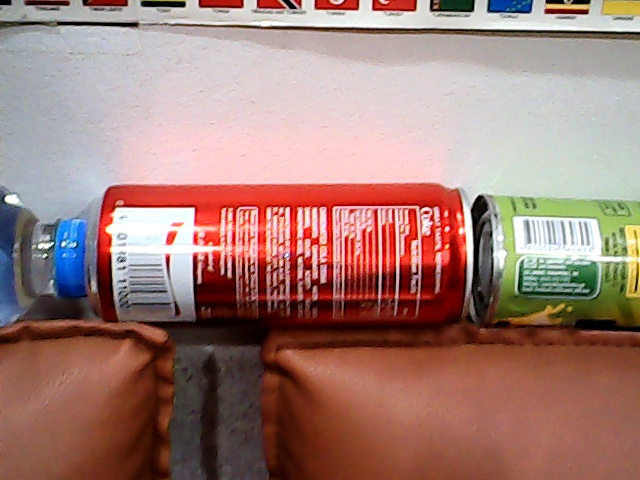Cola: (78, 168, 480, 351)
Pine Juice: (460, 172, 640, 348)
